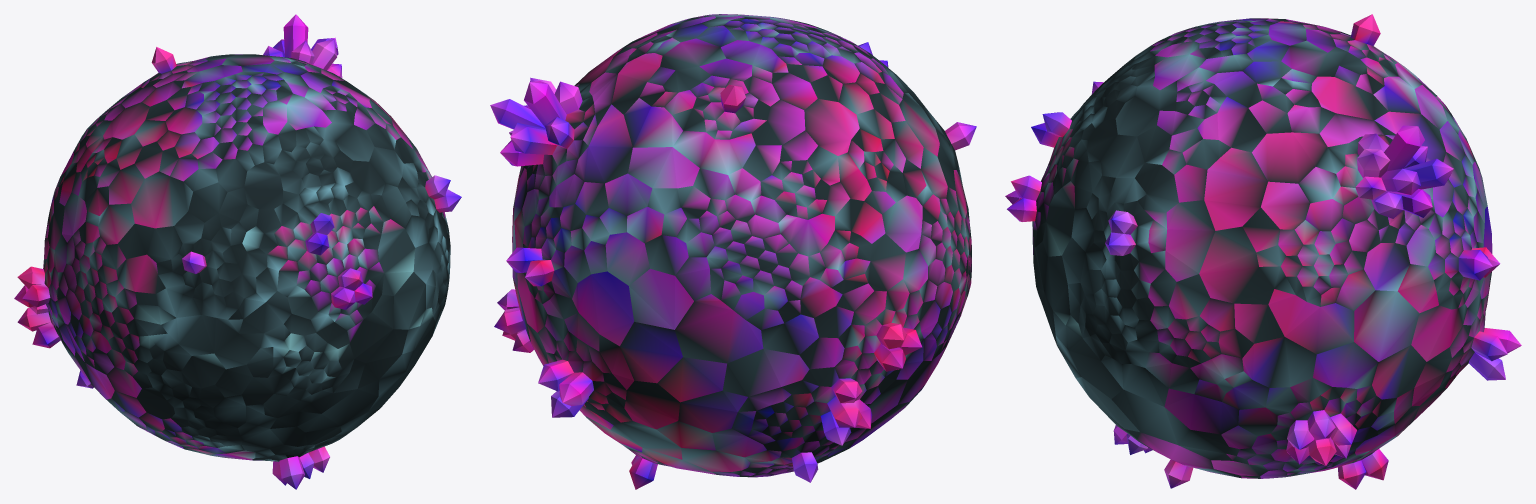
File: faucet_GibsonMateBlack.glb
The picture shows the model from 3 angles, left to right: view 1: azimuth 30°, elevation 25°; view 2: azimuth 150°, elevation 25°; view 3: azimuth 270°, elevation 25°; orthographic projection. The views are drawn at different scales.
Parts seen in each view (by area): view 1: C_planet_; view 2: C_planet_; view 3: C_planet_.
Boxes of the visible parts, x1,y1,x2,y2 form: C_planet_: (14,14,461,489); C_planet_: (490,14,976,489); C_planet_: (1005,14,1521,489).
Size of the model in its own units: 0.0215 by 0.0206 by 0.0224.
